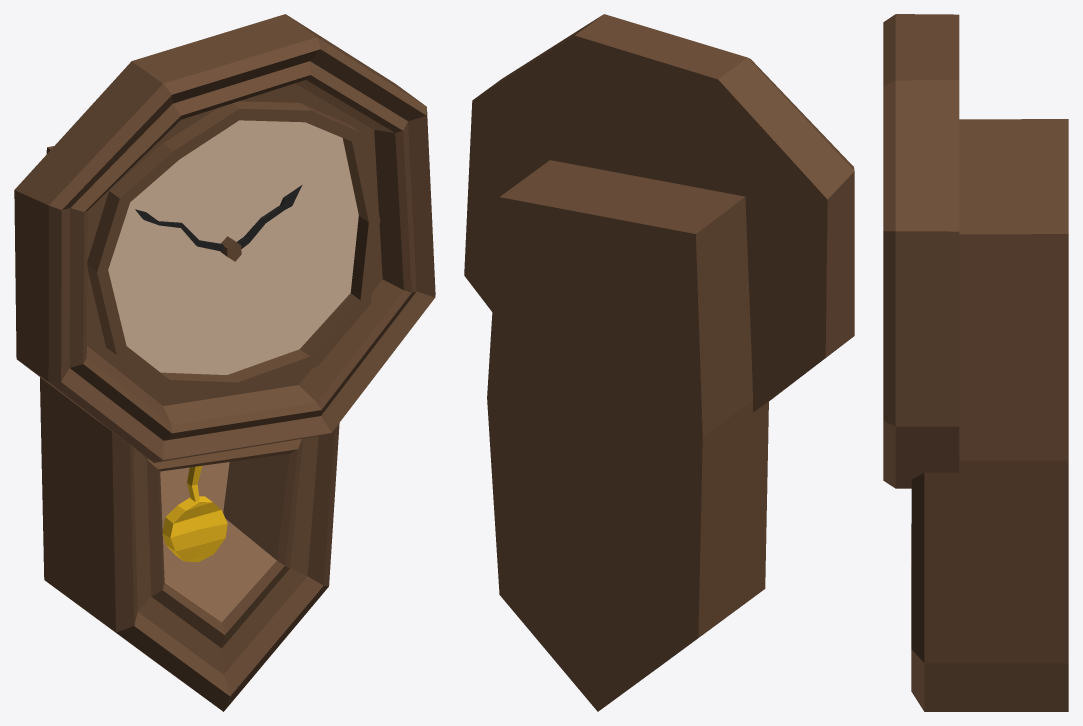
Rendered from Clock.fbx.
3 views of the same model, side by side, from view 1: azimuth 30°, elevation 25°; view 2: azimuth 150°, elevation 25°; view 3: azimuth 270°, elevation 25° (orthographic). The views are drawn at different scales.
Visible parts, largest first — view 1: Body; view 2: Body; view 3: Body.
Part boxes in pixels (x1,y1,x2,y2): Body: (14, 14, 435, 711); Body: (464, 14, 854, 711); Body: (883, 14, 1068, 711).
Bounding box in the file's own units: 188 × 307 × 77.13.
